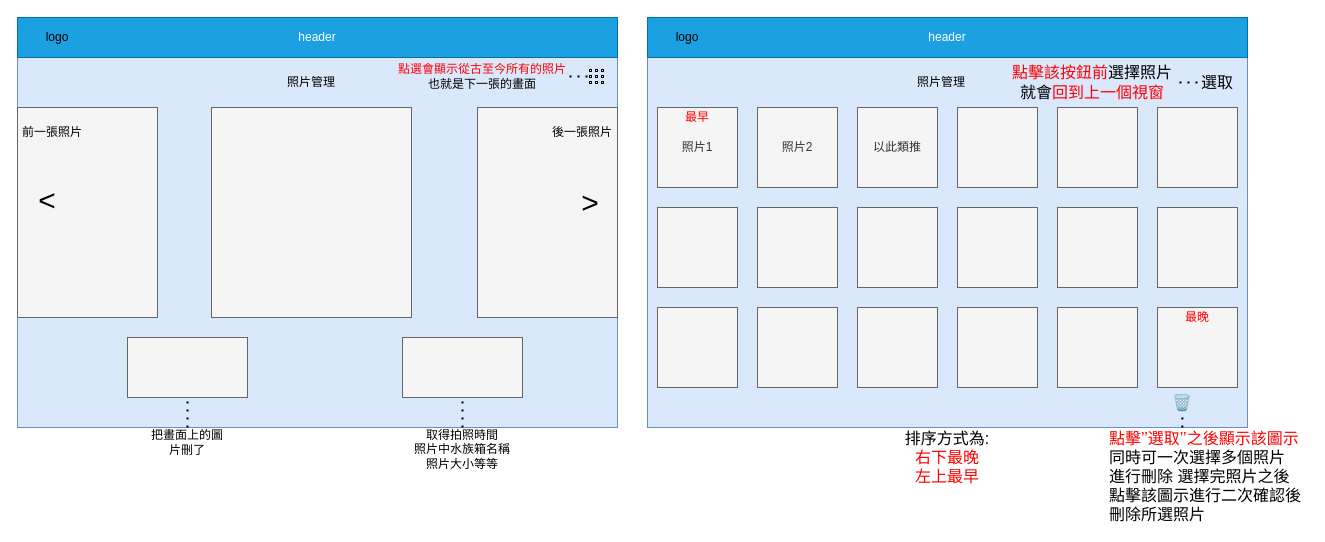
This 1325x542 diagram has some shape labels left out. The centre of each missing label's shape, as x and y in pixels:
"刪除" goes at point (187, 367).
"照片" goes at point (311, 212).
"詳細資訊" goes at point (462, 367).
